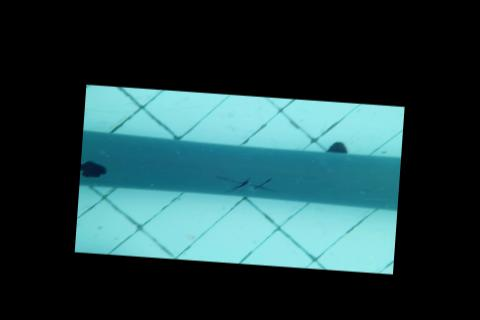kebocoran: (79, 159, 108, 180)
keretakan: (212, 173, 276, 197)
